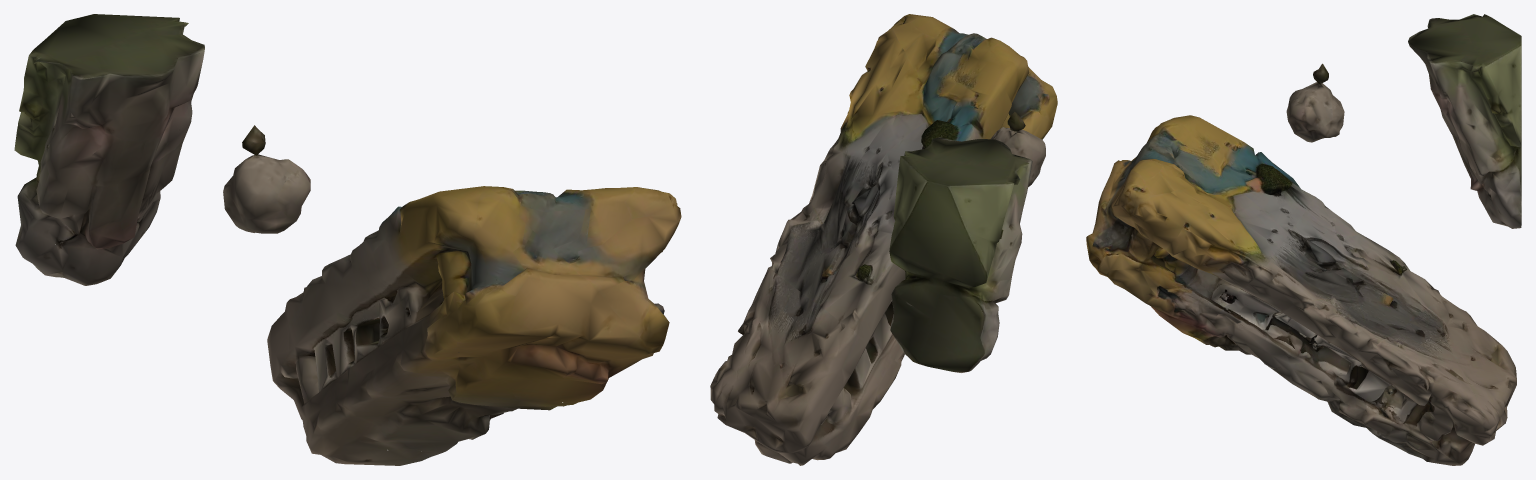
File: rock_abstract.glb
3 renders of one model, left to right at view 1: azimuth 30°, elevation 25°; view 2: azimuth 150°, elevation 25°; view 3: azimuth 270°, elevation 25°, orthographic. The views are drawn at different scales.
Visible parts, largest first — view 1: tripo_node_0d05257c; view 2: tripo_node_0d05257c; view 3: tripo_node_0d05257c.
Part boxes in pixels (left/top/right/bottom): tripo_node_0d05257c: left=14, top=14, right=681, bottom=465; tripo_node_0d05257c: left=710, top=14, right=1057, bottom=465; tripo_node_0d05257c: left=1086, top=14, right=1521, bottom=465.
Bounding box in the file's own units: 0.7688 × 0.8278 × 0.9784.
1 material, 1 textured.
